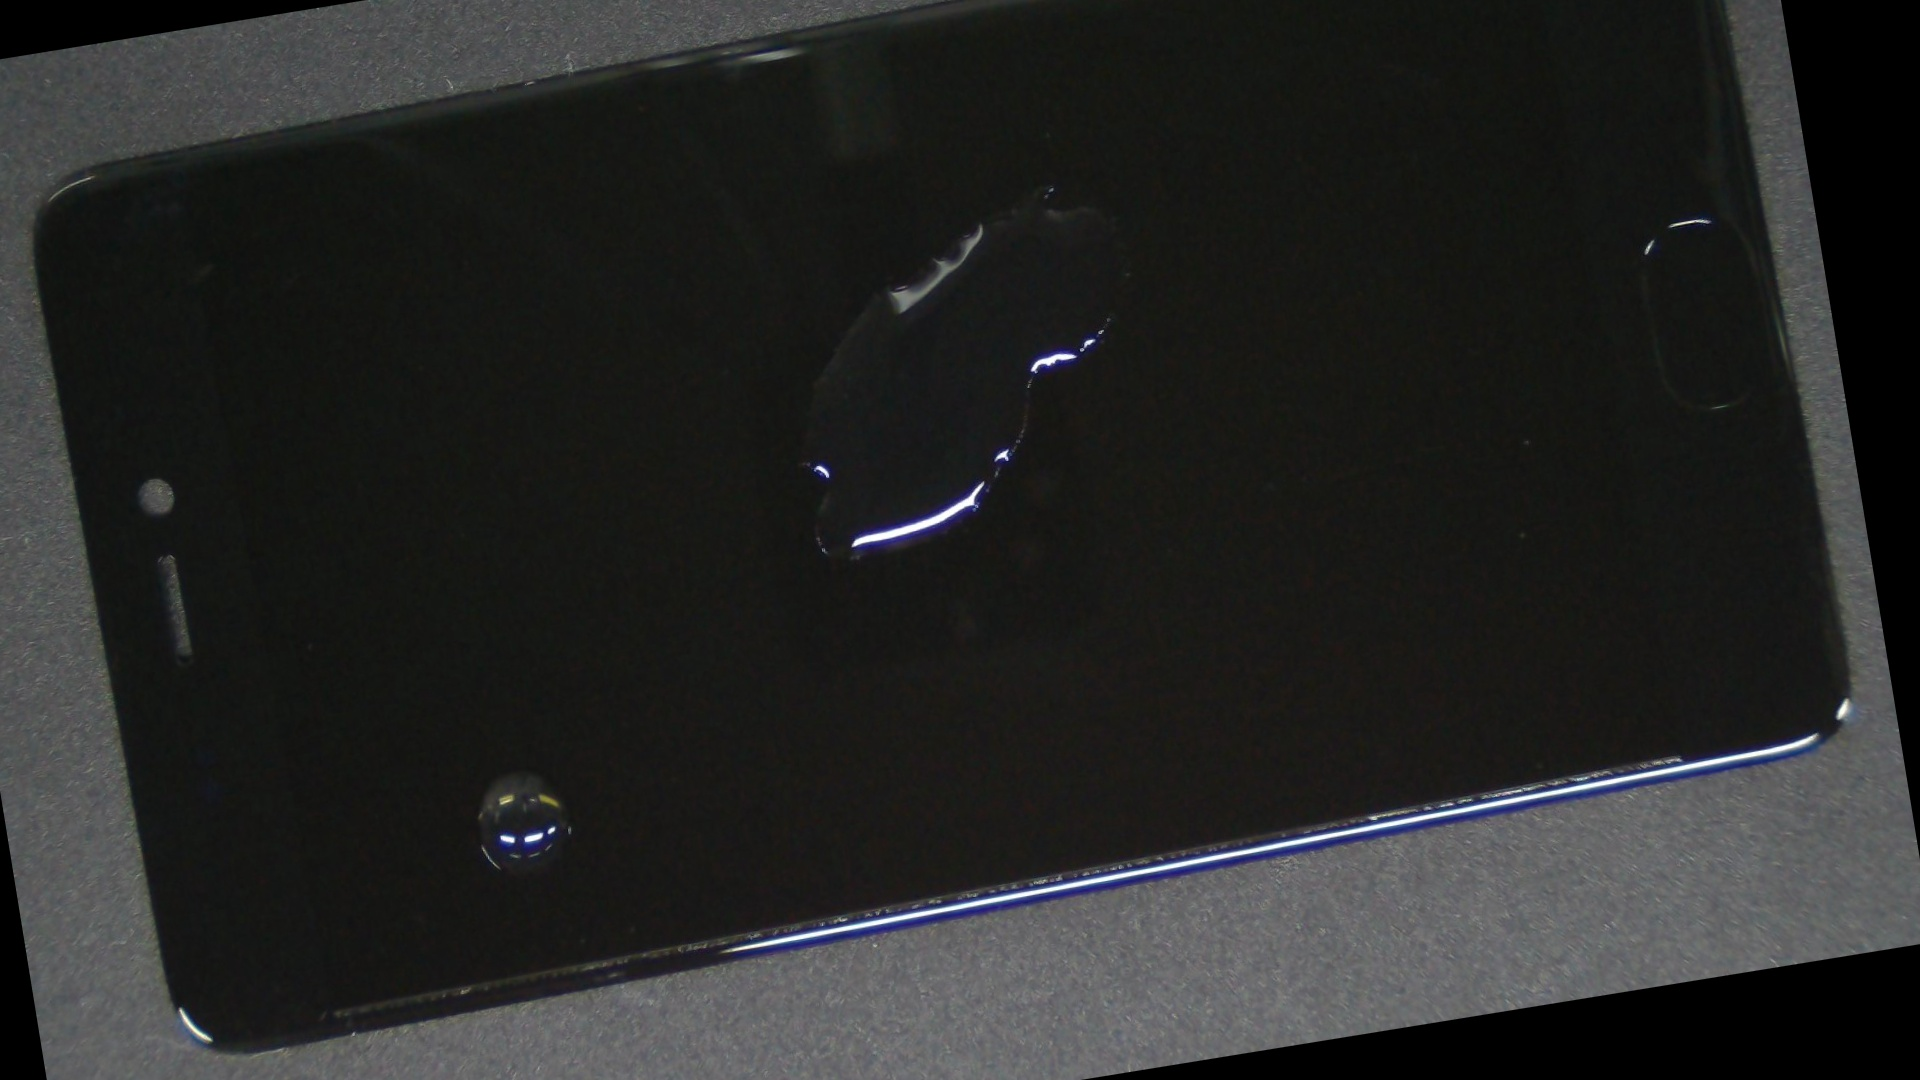oil: (459, 0, 1604, 418), (196, 345, 818, 1080)
